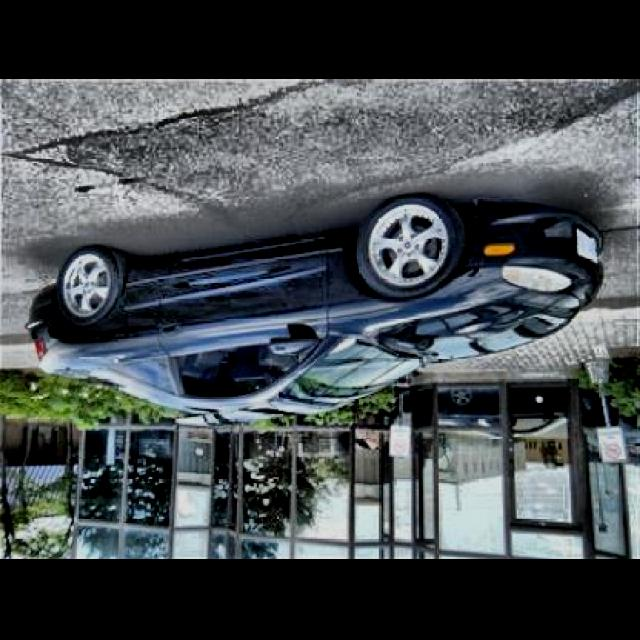black: (26, 198, 604, 419)
